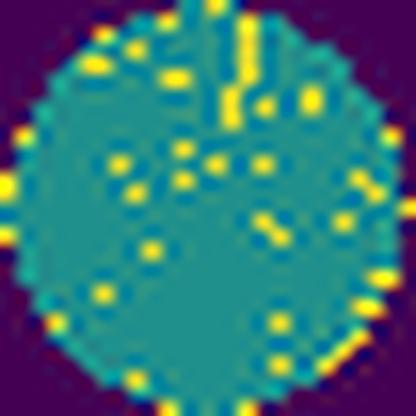Scratch: (220, 13, 265, 134)
